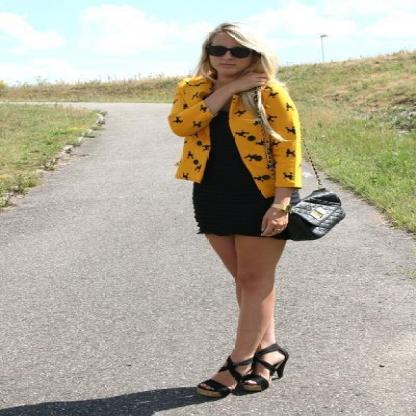bag: (270, 188, 344, 240)
dress: (192, 108, 274, 237)
jacket: (168, 75, 326, 197)
shoe: (199, 349, 286, 401)
sunglass: (203, 42, 261, 69)
